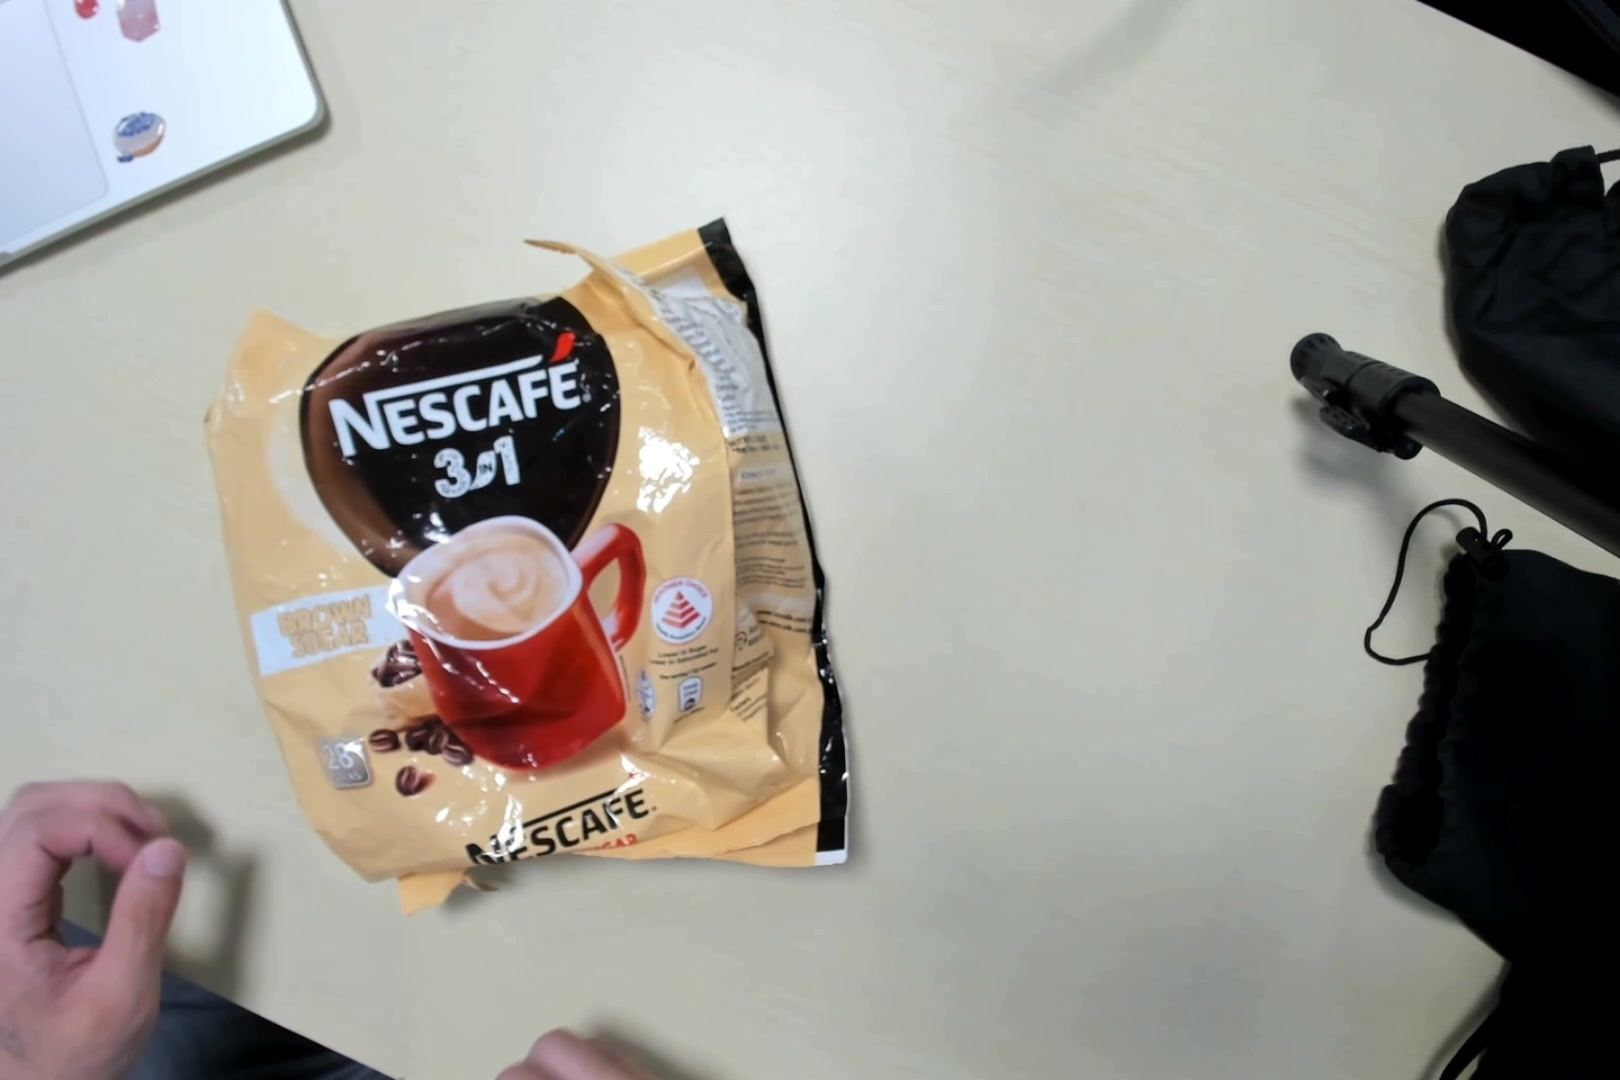Coffee(Powder)_500-599g_Halal_Healthy: (215, 231, 852, 912)
